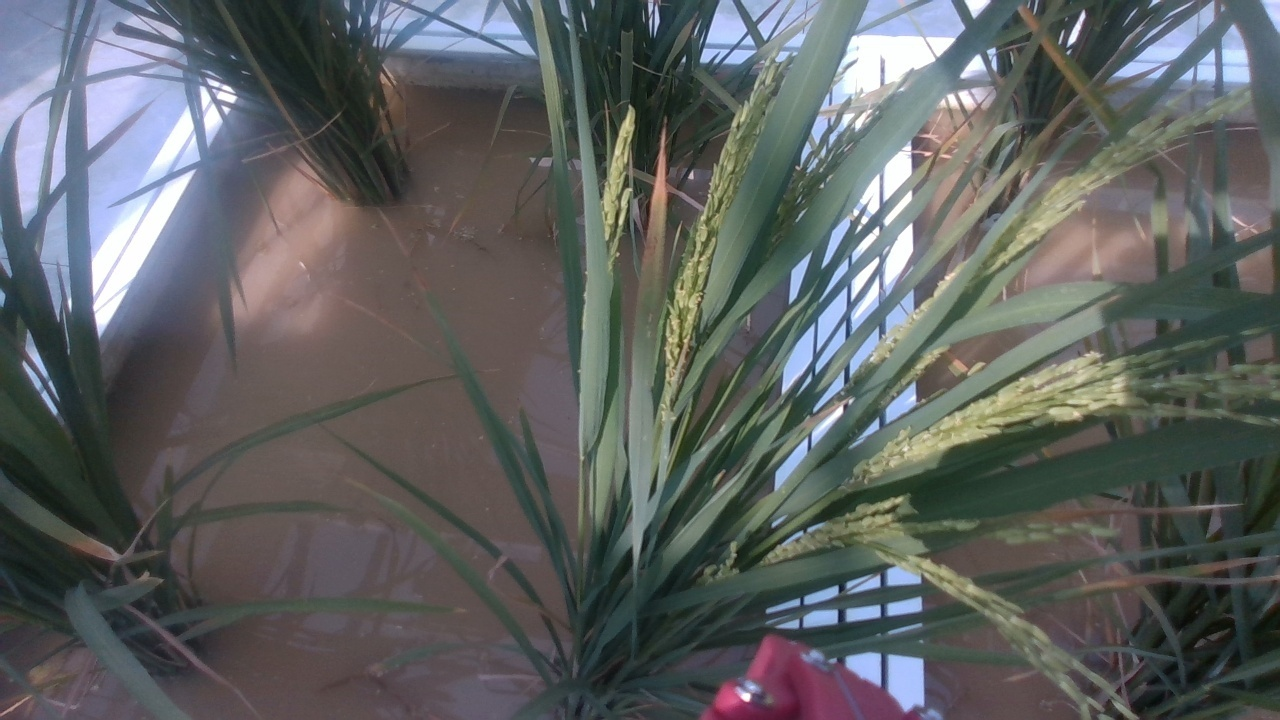panicle: (783, 512, 1127, 709), (862, 333, 1251, 489), (980, 78, 1257, 271), (663, 68, 800, 356), (589, 103, 656, 248)
